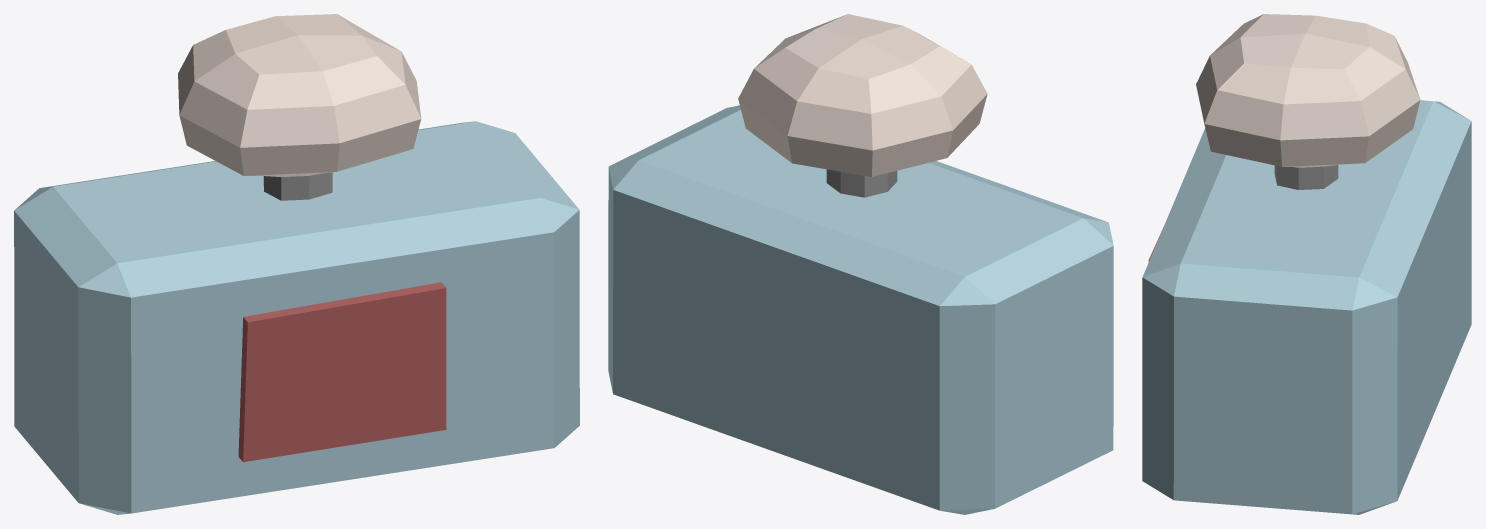
File: Perfume_6.fbx
3 renders of one model, left to right at view 1: azimuth 30°, elevation 25°; view 2: azimuth 150°, elevation 25°; view 3: azimuth 270°, elevation 25°, orthographic. The views are drawn at different scales.
Parts seen in each view (by area): view 1: Perfume_6; view 2: Perfume_6; view 3: Perfume_6.
Boxes of the visible parts, x1,y1,x2,y2 form: Perfume_6: (14,14,579,514); Perfume_6: (608,14,1113,514); Perfume_6: (1142,14,1471,514).
Bounding box in the file's own units: 21.56 × 13.43 × 17.39.
